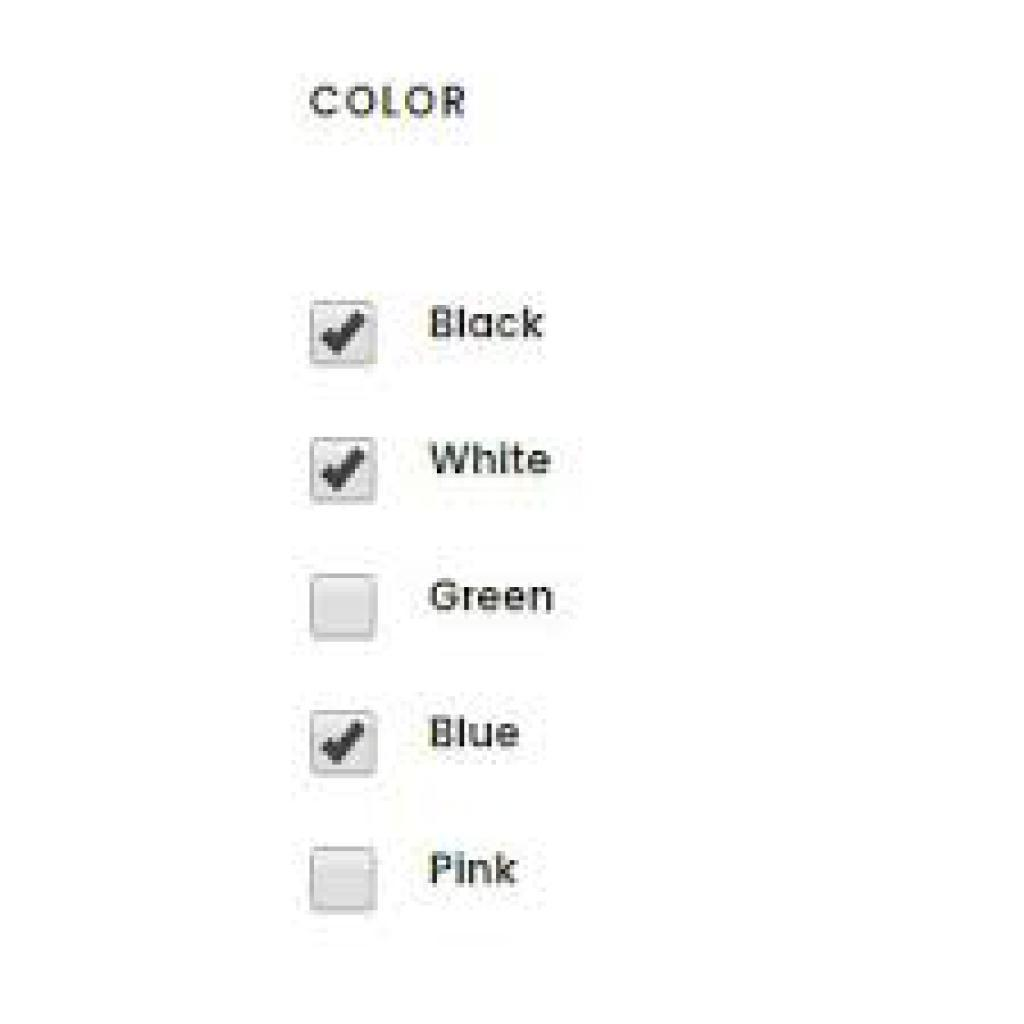checkbox: (313, 571, 379, 643), (310, 711, 379, 779), (313, 304, 380, 370), (312, 845, 377, 913), (312, 439, 380, 501)
